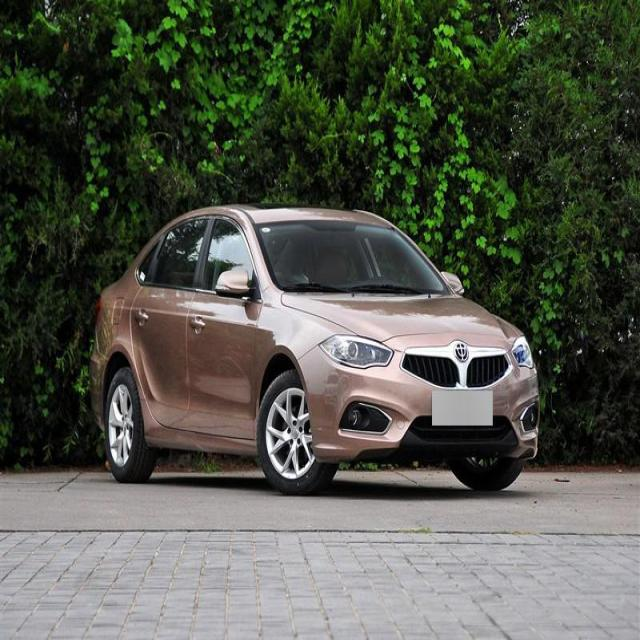door: (133, 218, 213, 438)
front_bumper: (310, 366, 542, 463)
front_glass: (257, 222, 446, 294)
front_left_side_light: (509, 328, 533, 372)
front_left_side_mirror: (441, 270, 466, 300)
front_right_side_door: (178, 211, 263, 444)
front_right_side_light: (317, 331, 394, 370)
front_right_side_mirror: (214, 266, 251, 302)
rear_bumper: (89, 332, 110, 434)
wheel: (258, 368, 336, 492), (106, 368, 152, 482)
